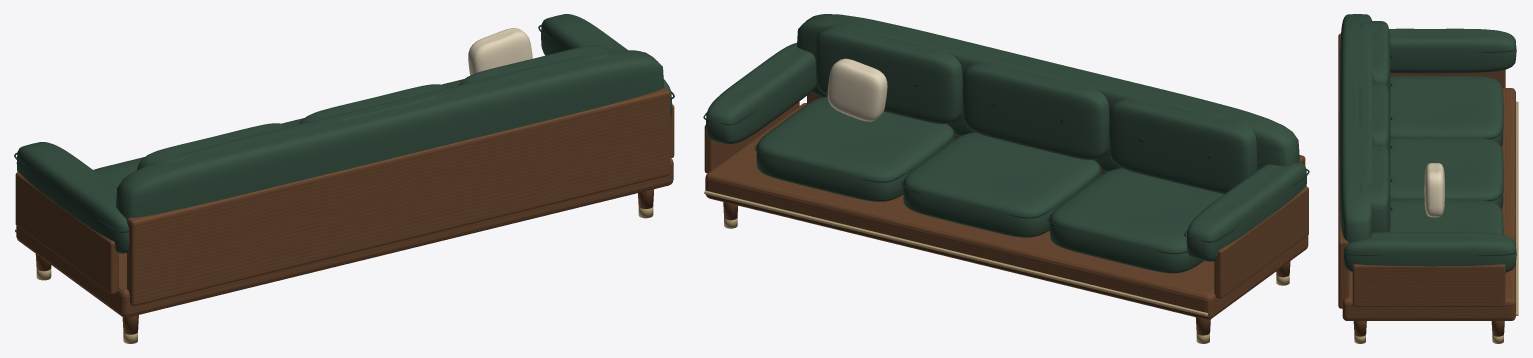
The model's file is hotel-sofa.glb.
3 renders of one model, left to right at view 1: azimuth 30°, elevation 25°; view 2: azimuth 150°, elevation 25°; view 3: azimuth 270°, elevation 25°, orthographic. The views are drawn at different scales.
Parts seen in each view (by area): view 1: hotel-sofa / Hotel satin walnut, hotel-sofa / Hotel forest velvet, hotel-sofa / Hotel carved ivory; view 2: hotel-sofa / Hotel forest velvet, hotel-sofa / Hotel satin walnut, hotel-sofa / Hotel carved ivory, hotel-sofa / Hotel satin champagne brass, hotel-sofa / Hotel upholstery dark piping; view 3: hotel-sofa / Hotel forest velvet, hotel-sofa / Hotel satin walnut, hotel-sofa / Hotel carved ivory, hotel-sofa / Hotel satin champagne brass, hotel-sofa / Hotel upholstery dark piping.
Boxes of the visible parts, x1,y1,x2,y2 form: hotel-sofa / Hotel satin walnut: (15, 87, 674, 334); hotel-sofa / Hotel forest velvet: (16, 14, 672, 253); hotel-sofa / Hotel carved ivory: (468, 28, 532, 75); hotel-sofa / Hotel forest velvet: (706, 14, 1306, 273); hotel-sofa / Hotel satin walnut: (704, 92, 1308, 335); hotel-sofa / Hotel carved ivory: (827, 58, 887, 121); hotel-sofa / Hotel satin champagne brass: (704, 190, 1289, 343); hotel-sofa / Hotel upholstery dark piping: (703, 66, 1309, 254); hotel-sofa / Hotel forest velvet: (1339, 14, 1516, 272); hotel-sofa / Hotel satin walnut: (1338, 33, 1515, 336); hotel-sofa / Hotel carved ivory: (1424, 163, 1444, 217); hotel-sofa / Hotel satin champagne brass: (1354, 101, 1518, 343); hotel-sofa / Hotel upholstery dark piping: (1344, 41, 1515, 255).
Size of the model in its own units: 3.79 by 1.1 by 1.32.
5 materials, 2 textured.
